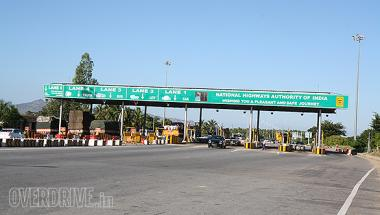toll plaza: (38, 77, 350, 113)
